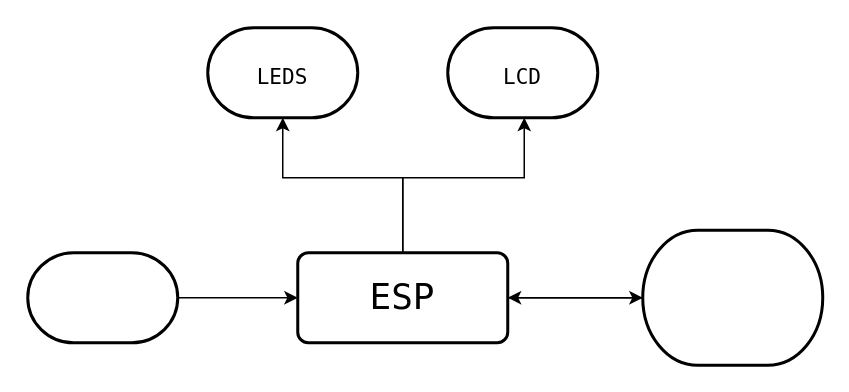
This 849x392 diagram has some shape labels left out. Each missing label, with the centre of its shape:
Communicatie met andere puzzels: the point at 732,297
Joystick: the point at 102,297
